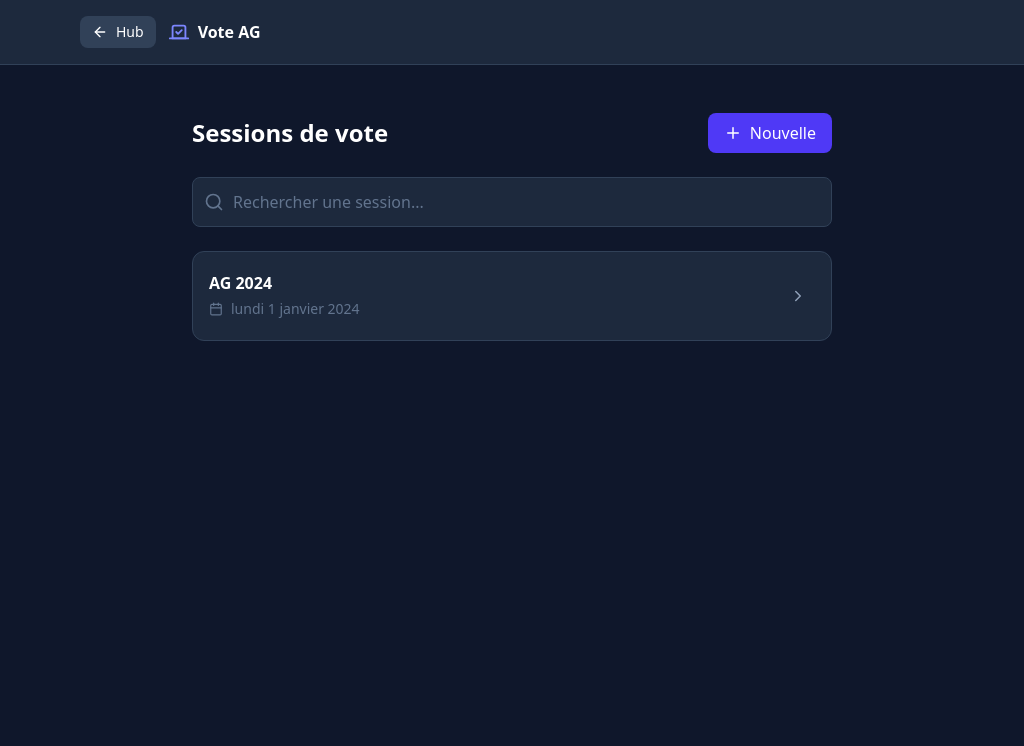
Scenario: VoteApp - Vue Session › affiche le bouton PDF après navigation
Click the button titled "Ouvrir".
click(798, 296)  # box [781, 279, 815, 313]
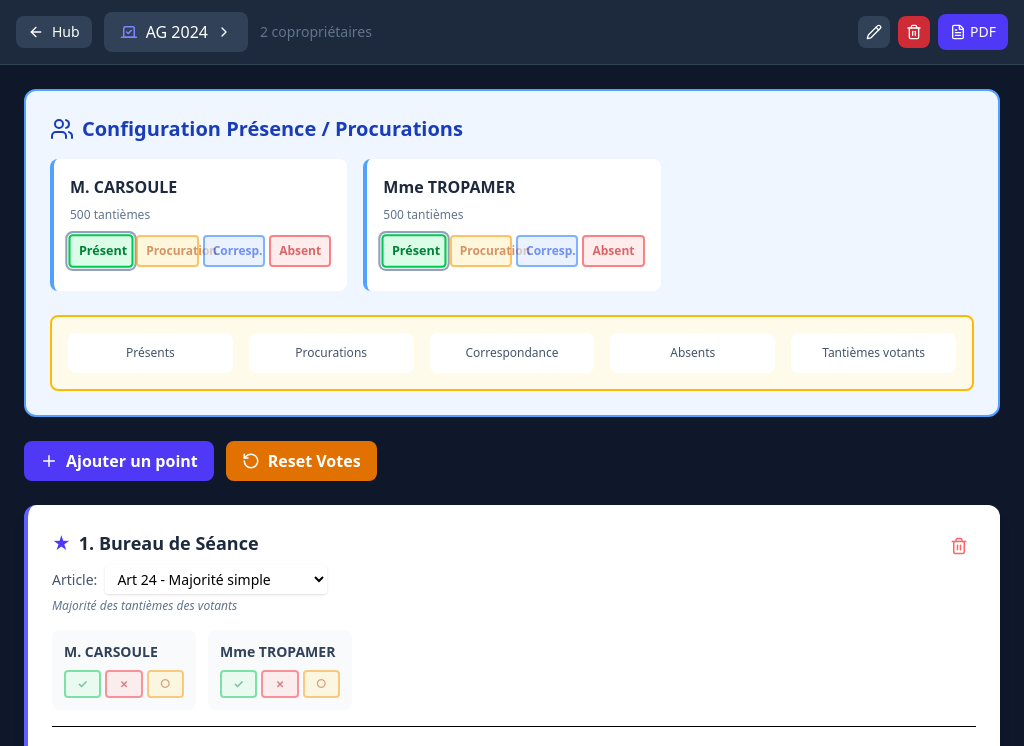
Expected: the button "PDF" is shown, [938, 14, 1008, 50]
